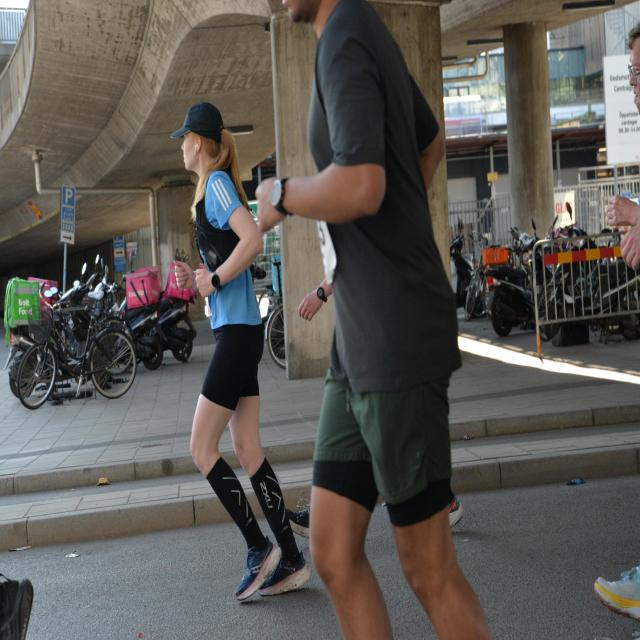runner-detect: (169, 100, 310, 614)
